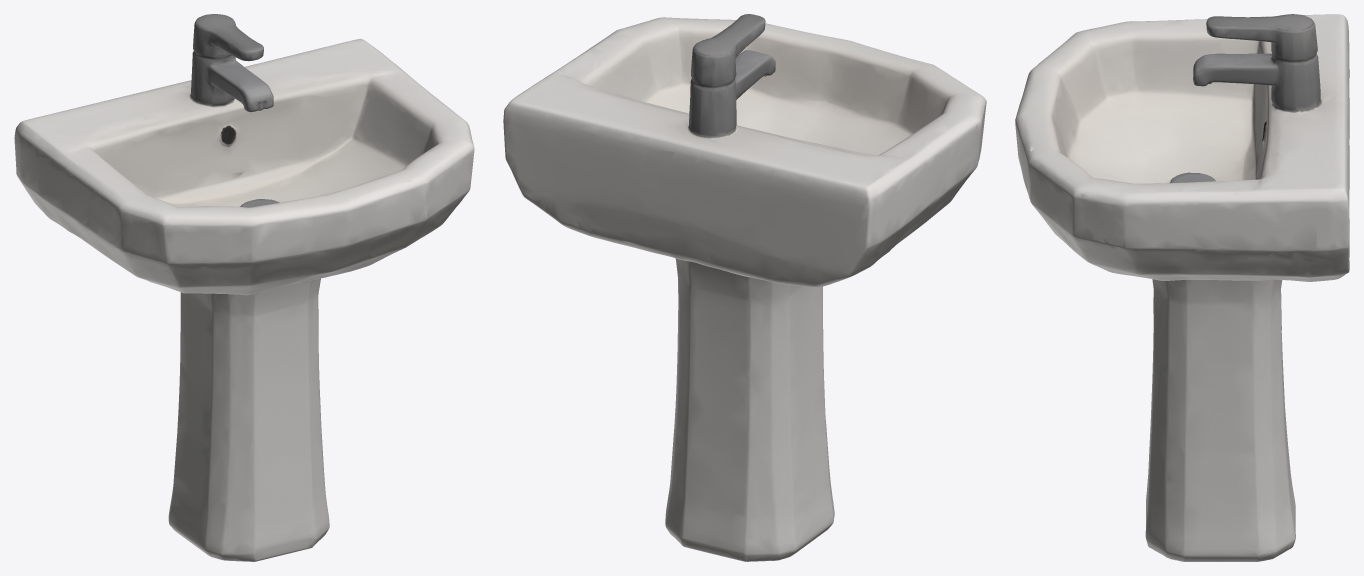
File: sink_lod.glb
The picture shows the model from 3 angles, left to right: view 1: azimuth 30°, elevation 25°; view 2: azimuth 150°, elevation 25°; view 3: azimuth 270°, elevation 25°; orthographic projection. The views are drawn at different scales.
Parts seen in each view (by area): view 1: world; view 2: world; view 3: world.
Part boxes in pixels (<box>): world: <box>14,14,474,561</box>; world: <box>503,14,986,561</box>; world: <box>1015,14,1349,561</box>.
Size of the model in its own units: 0.7643 by 0.9999 by 0.5913.
Materials: 1 (1 with a texture image).
